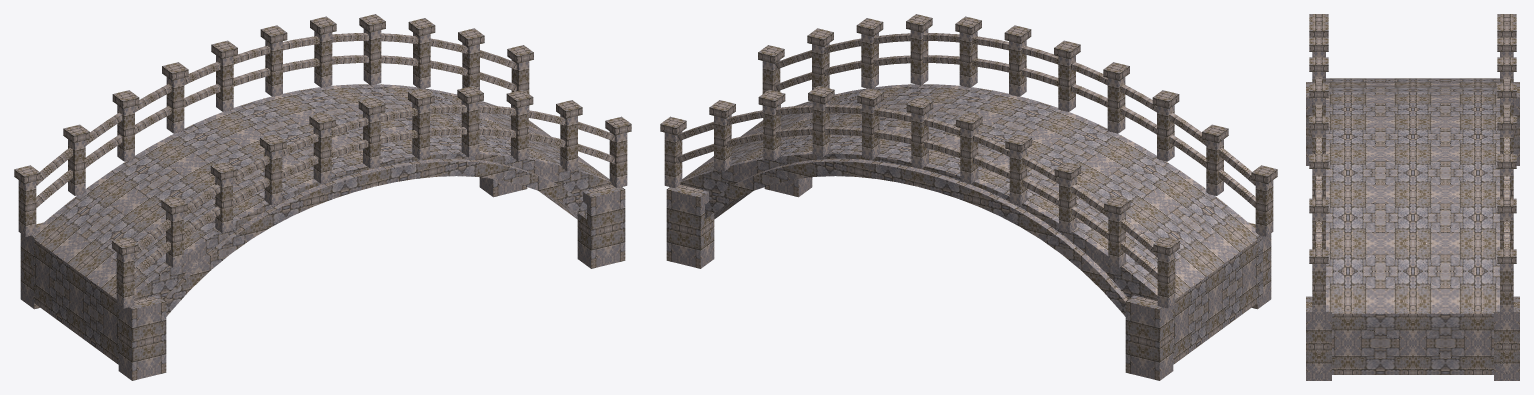
The model's file is bridge.glb.
3 views of the same model, side by side, from view 1: azimuth 30°, elevation 25°; view 2: azimuth 150°, elevation 25°; view 3: azimuth 270°, elevation 25° (orthographic). The views are drawn at different scales.
Visible parts, largest first — view 1: bridge_canal_stone; view 2: bridge_canal_stone; view 3: bridge_canal_stone.
Part boxes in pixels (left/top/right/bottom): bridge_canal_stone: left=14, top=14, right=631, bottom=380; bridge_canal_stone: left=660, top=14, right=1277, bottom=380; bridge_canal_stone: left=1306, top=14, right=1519, bottom=380.
Size of the model in its own units: 8.68 by 3.47 by 3.29.
Materials: 1 (1 with a texture image).
